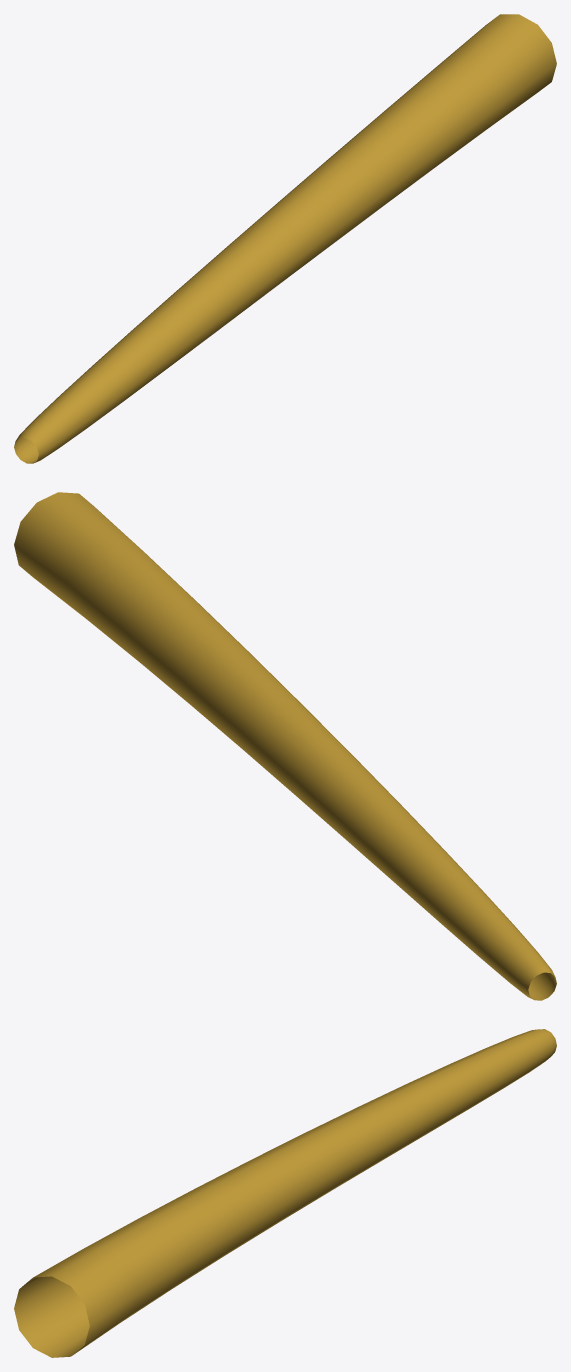
The picture shows the model from 3 angles, top to bottom: view 1: azimuth 90°, elevation 25°; view 2: azimuth 150°, elevation 25°; view 3: azimuth 270°, elevation 25°; orthographic projection. The views are drawn at different scales.
Parts seen in each view (by area): view 1: 右侧臂丛下干后股; view 2: 右侧臂丛下干后股; view 3: 右侧臂丛下干后股.
Part boxes in pixels (x1,y1,x2,y2): 右侧臂丛下干后股: [14, 14, 556, 463]; 右侧臂丛下干后股: [14, 492, 556, 1000]; 右侧臂丛下干后股: [14, 1029, 556, 1357].
Bounding box in the file's own units: 0.0413 × 0.00641 × 0.0272.
